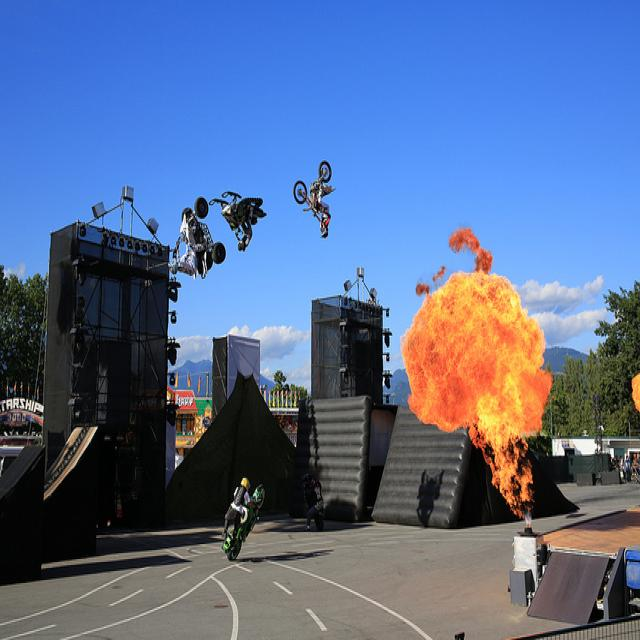motor: (181, 196, 226, 278), (221, 484, 265, 561), (213, 190, 267, 244), (293, 160, 336, 223), (301, 473, 325, 529)
